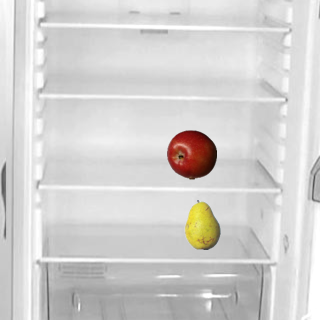Apple Braeburn: (166, 129, 216, 179)
Pear Monster: (177, 199, 227, 249)
